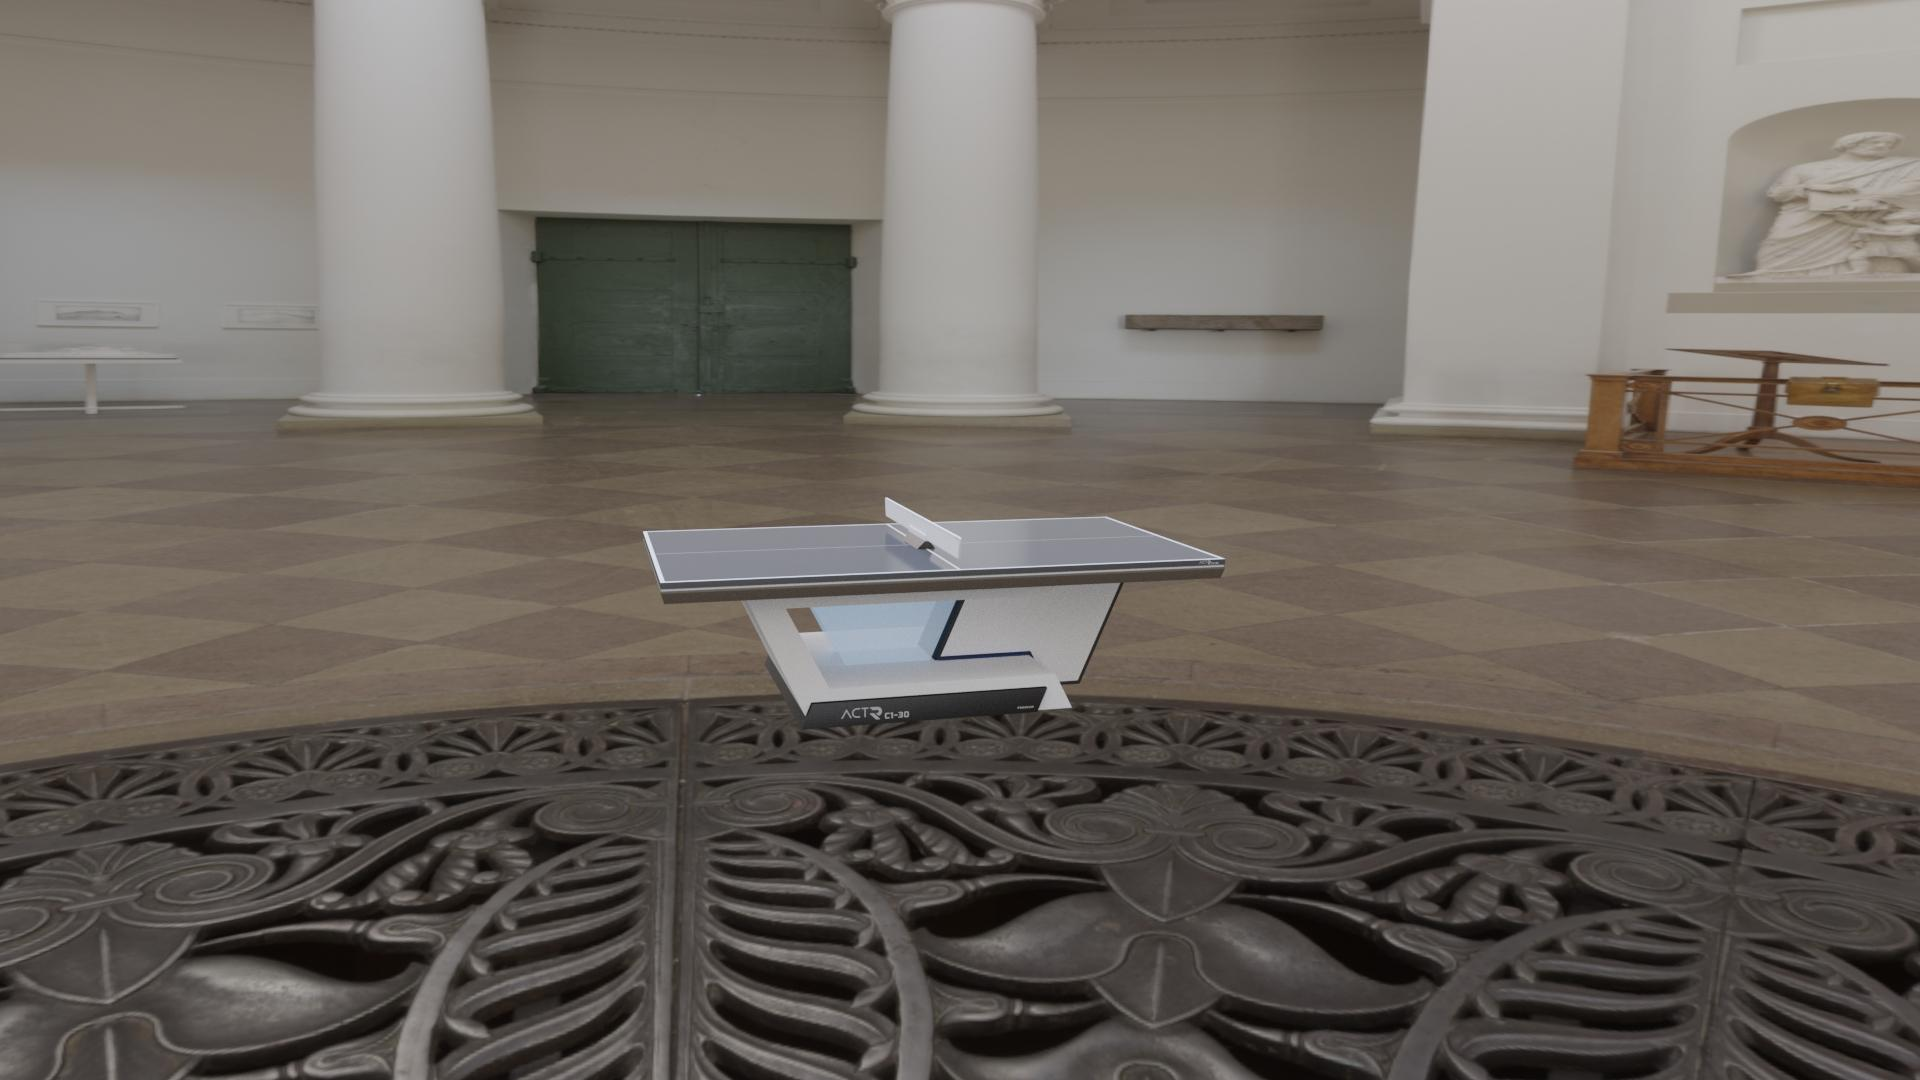table: (647, 517, 1220, 582)
